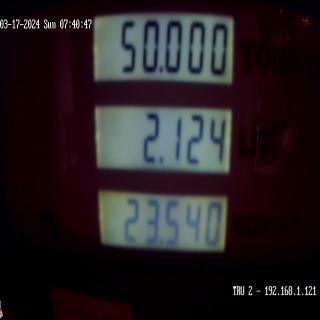screen: (87, 2, 240, 290)
